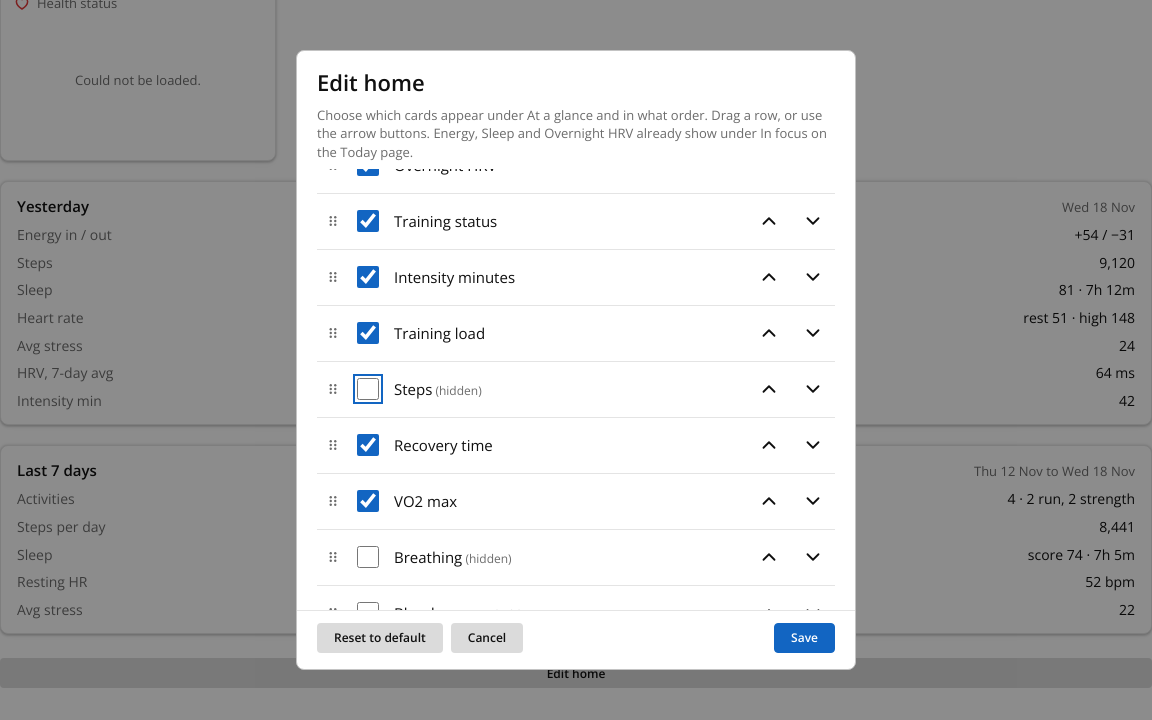
Test case: Edit home › rolls back and explains when saving fails
The image size is (1152, 720).
Earlier steps of the test are not shown.
(page scrolled)
Click the button "Save": (805, 638) [774, 623, 835, 653]
(page scrolled)
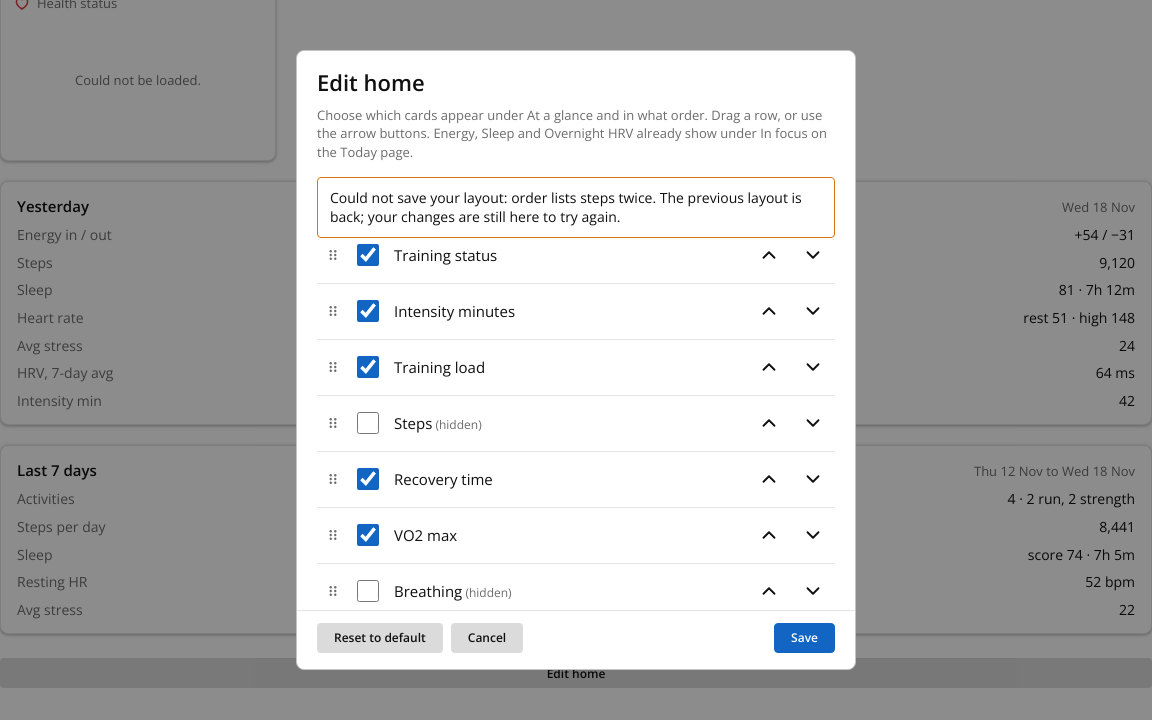
Expected: the message shows "Could not save your layout: order lists steps twice", [330, 188, 802, 226]
Expected: the message shows "previous layout is back", [330, 188, 802, 226]
Expected: the checkbox labelled "Steps (hidden)" is not checked, [357, 412, 379, 434]
